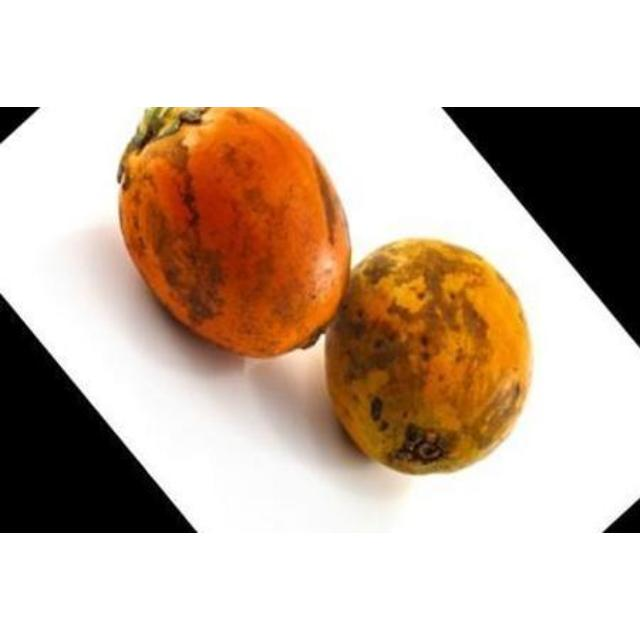good: (118, 107, 350, 360), (324, 238, 535, 477)
